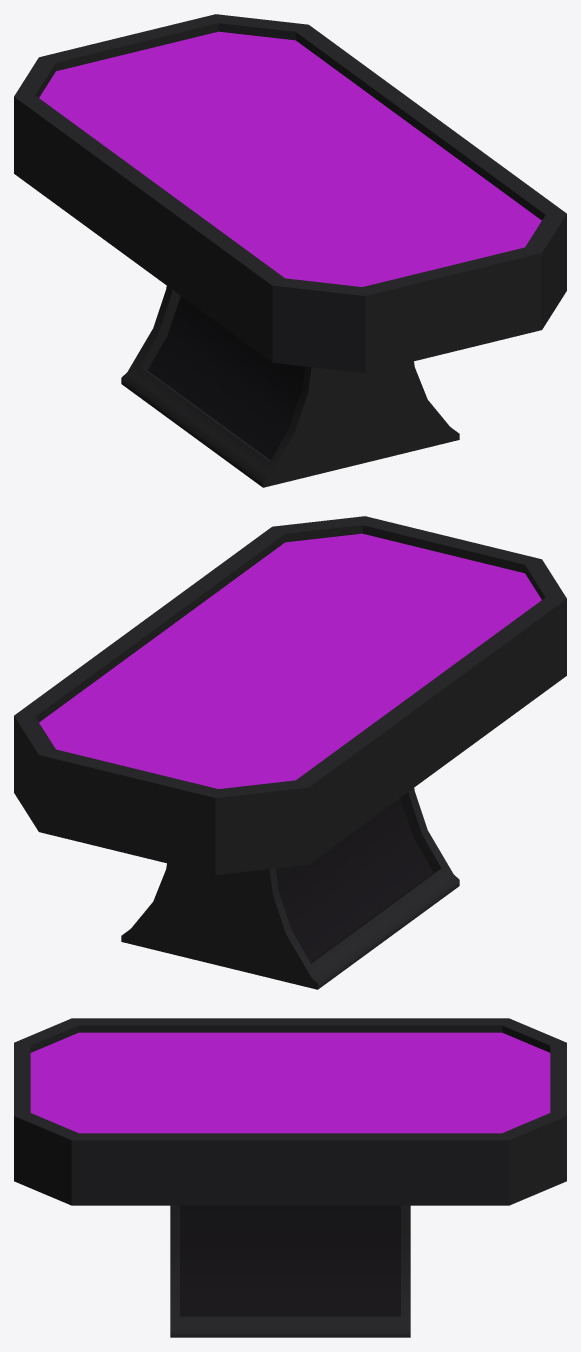
Rendered from WorkTable.fbx.
The picture shows the model from 3 angles, top to bottom: view 1: azimuth 30°, elevation 25°; view 2: azimuth 150°, elevation 25°; view 3: azimuth 270°, elevation 25°; orthographic projection. The views are drawn at different scales.
Parts seen in each view (by area): view 1: WorkTable; view 2: WorkTable; view 3: WorkTable.
Part boxes in pixels (x1,y1,x2,y2): WorkTable: [14, 14, 566, 487]; WorkTable: [14, 516, 566, 989]; WorkTable: [14, 1018, 566, 1337].
Bounding box in the file's own units: 120 × 99.88 × 230.
